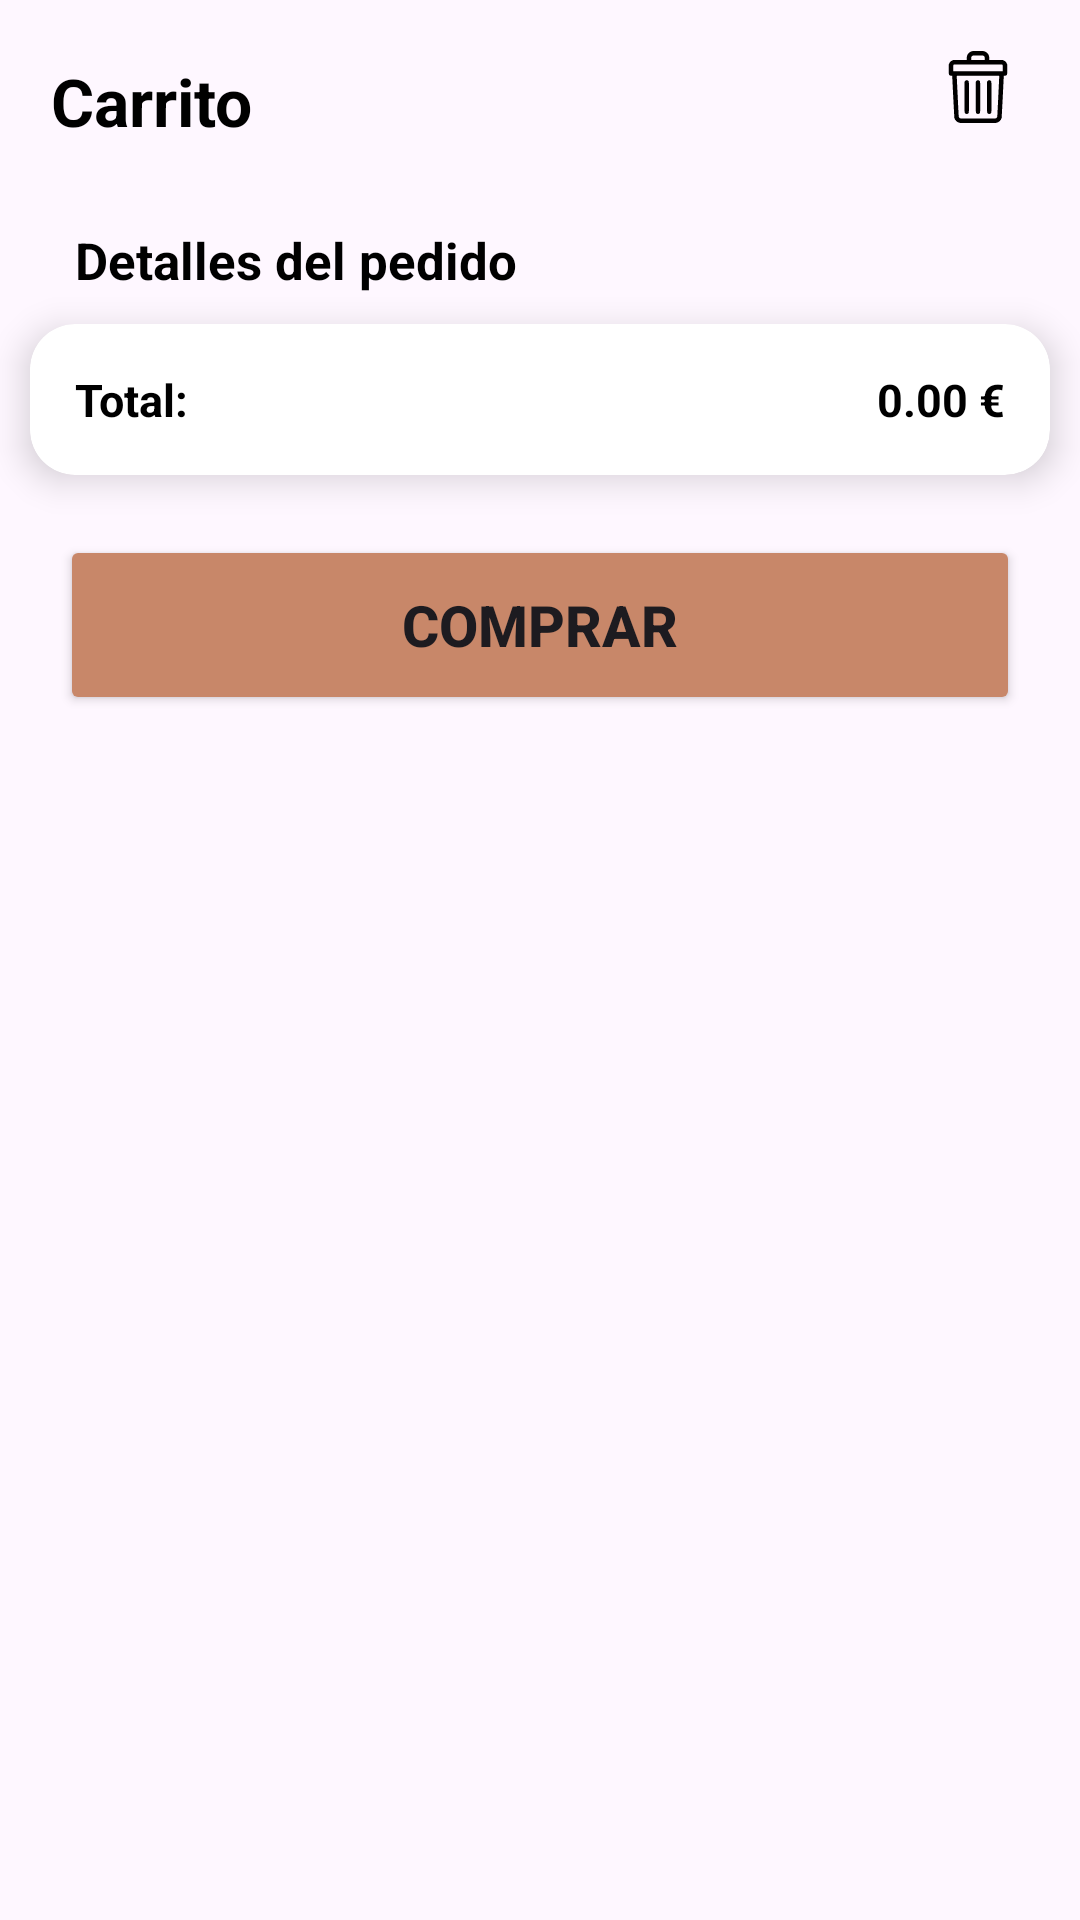

Named icons in this screenshot (1080x1920) and their bounding boxes, (x1, y1, x2, y2):
delete: (948, 51, 1008, 123)
